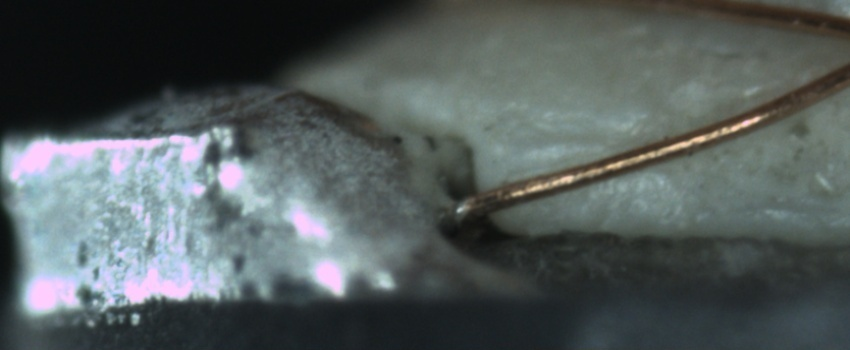DL: (506, 109, 643, 172)
